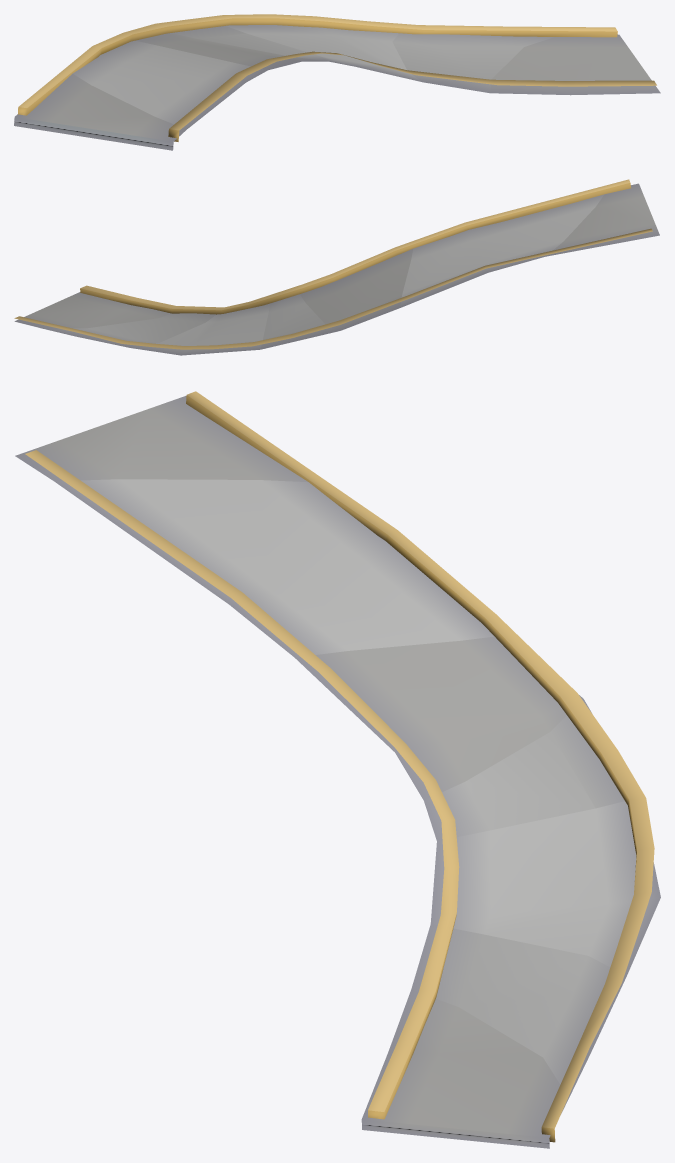
Rendered from Slide.glb.
3 views of the same model, one above another, from view 1: azimuth 30°, elevation 25°; view 2: azimuth 150°, elevation 25°; view 3: azimuth 270°, elevation 25° (orthographic). The views are drawn at different scales.
Parts seen in each view (by area): view 1: Slide; view 2: Slide; view 3: Slide.
Part boxes in pixels (x1,y1,x2,y2): Slide: (14, 14, 660, 150); Slide: (14, 179, 659, 355); Slide: (15, 391, 660, 1148).
Size of the model in its own units: 10.76 by 2.95 by 6.12.
